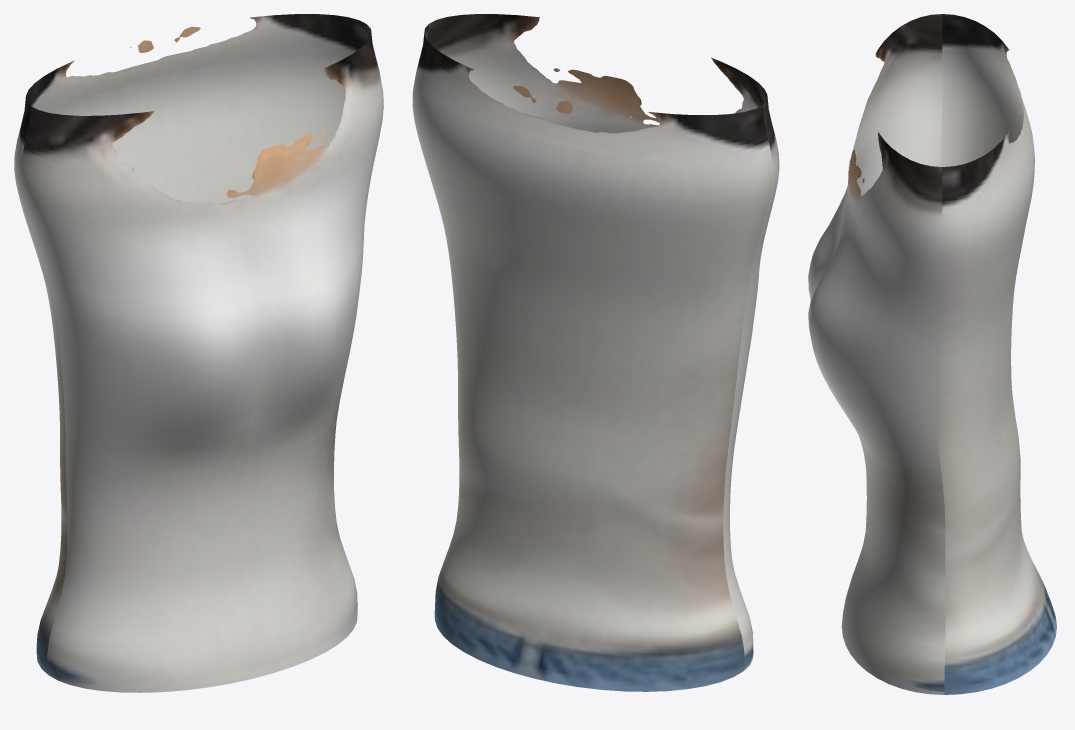
Rendered from prod-ae-acetate-beaded-tank.glb.
3 views of the same model, side by side, from view 1: azimuth 30°, elevation 25°; view 2: azimuth 150°, elevation 25°; view 3: azimuth 270°, elevation 25° (orthographic). The views are drawn at different scales.
Visible parts, largest first — view 1: prod-ae-acetate-beaded-tank; view 2: prod-ae-acetate-beaded-tank; view 3: prod-ae-acetate-beaded-tank.
Part boxes in pixels (<box>): prod-ae-acetate-beaded-tank: <box>14,14,383,692</box>; prod-ae-acetate-beaded-tank: <box>412,14,779,691</box>; prod-ae-acetate-beaded-tank: <box>808,14,1056,694</box>.
Bounding box in the file's own units: 0.2374 × 0.3805 × 0.1561.
Materials: 1 (1 with a texture image).
